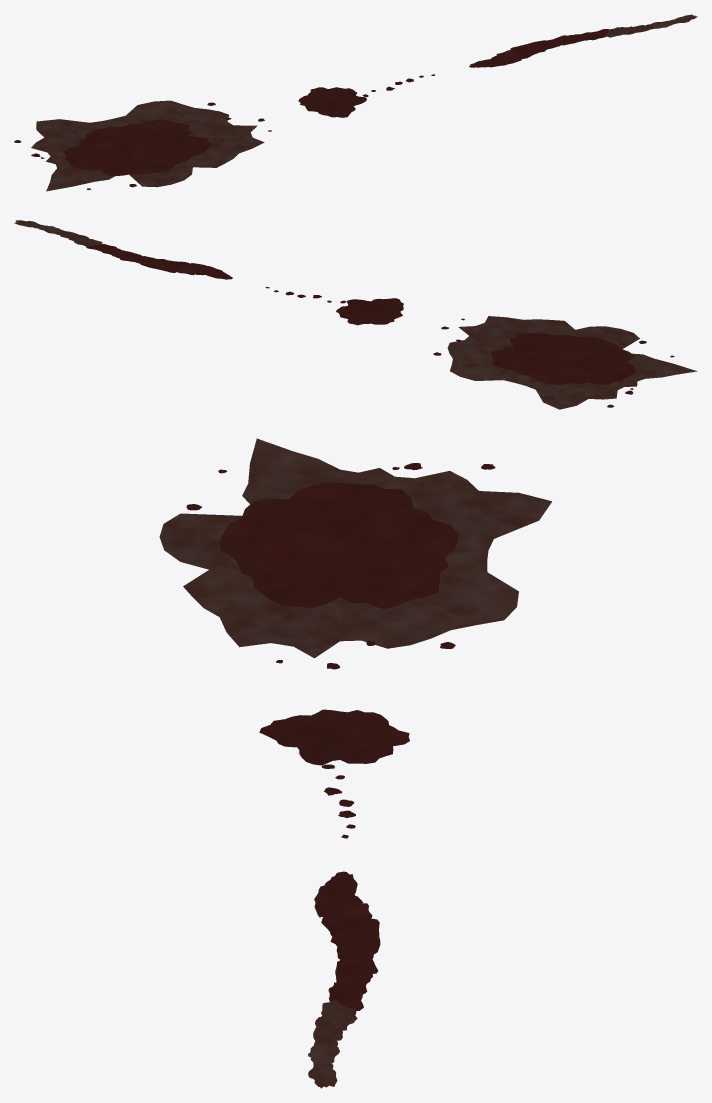
The model's file is Blood_Pools.fbx.
3 renders of one model, top to bottom at view 1: azimuth 30°, elevation 25°; view 2: azimuth 150°, elevation 25°; view 3: azimuth 270°, elevation 25°, orthographic. The views are drawn at different scales.
Visible parts, largest first — view 1: Blood_PoolA, Blood_Smear, Blood_PoolB; view 2: Blood_PoolA, Blood_Smear, Blood_PoolB; view 3: Blood_PoolA, Blood_Smear, Blood_PoolB.
Part boxes in pixels (left/top/right/bottom): Blood_PoolA: left=14, top=100, right=271, bottom=191; Blood_Smear: left=469, top=14, right=697, bottom=67; Blood_PoolB: left=298, top=74, right=434, bottom=117; Blood_PoolA: left=433, top=316, right=697, bottom=409; Blood_Smear: left=14, top=220, right=232, bottom=279; Blood_PoolB: left=265, top=287, right=403, bottom=325; Blood_PoolA: left=159, top=438, right=551, bottom=669; Blood_Smear: left=308, top=871, right=380, bottom=1088; Blood_PoolB: left=259, top=709, right=409, bottom=838.
Size of the model in its own units: 5.22 by 0.0021 by 1.33.
